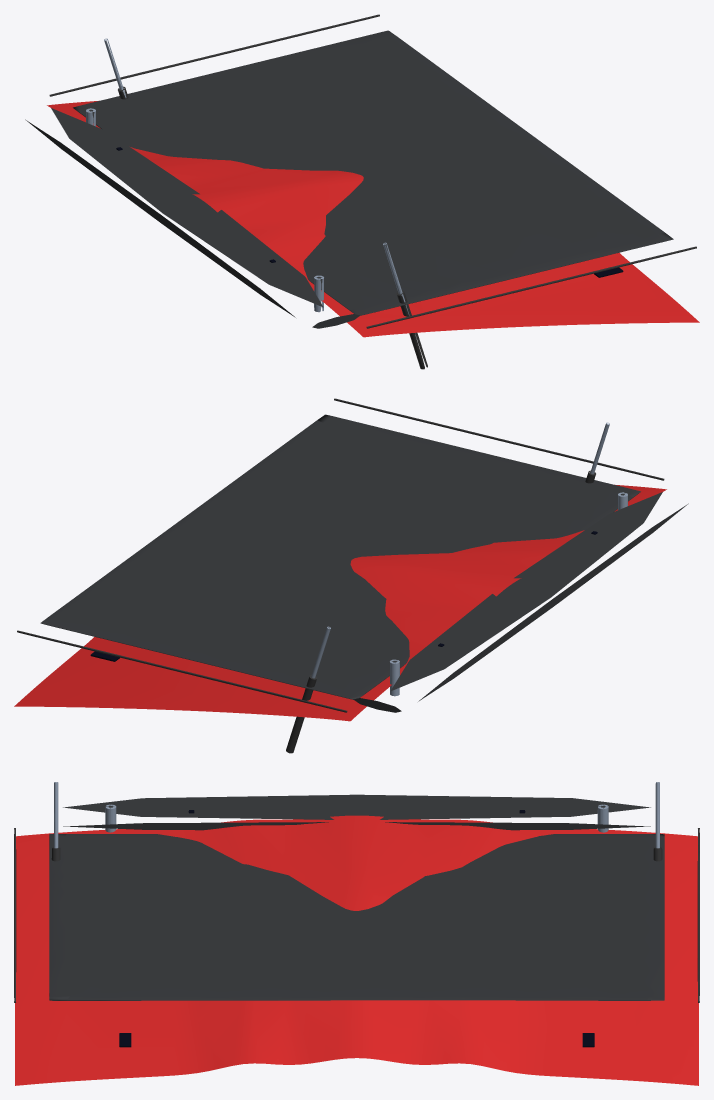
The model's file is ford_escort_rs_cosworth_gt3_hood_closed.glb.
3 renders of one model, top to bottom at view 1: azimuth 30°, elevation 25°; view 2: azimuth 150°, elevation 25°; view 3: azimuth 270°, elevation 25°, orthographic. The views are drawn at different scales.
Visible parts, largest first — view 1: Block04_ProductionSculptedHood; view 2: Block04_ProductionSculptedHood; view 3: Block04_ProductionSculptedHood.
Part boxes in pixels (x1,y1,x2,y2): Block04_ProductionSculptedHood: (25, 14, 699, 369); Block04_ProductionSculptedHood: (14, 398, 688, 753); Block04_ProductionSculptedHood: (14, 782, 699, 1085).
Size of the model in its own units: 0.86 by 0.2967 by 1.24.
